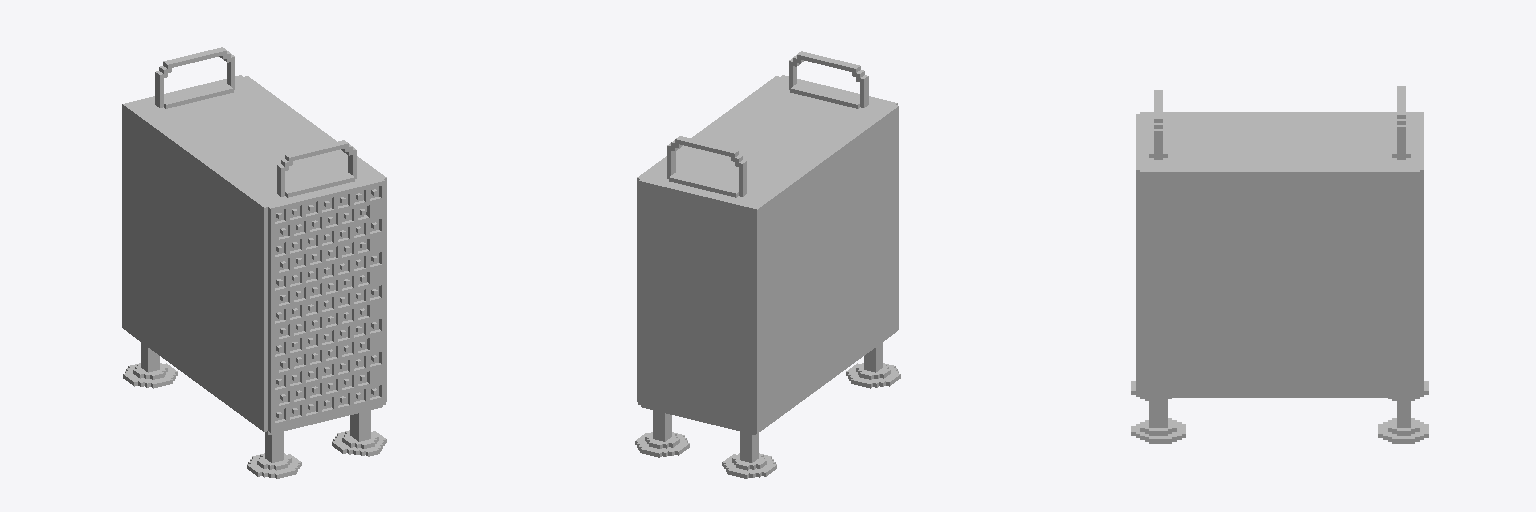
The model's file is Mac Pro.obj.
3 views of the same model, side by side, from view 1: azimuth 30°, elevation 25°; view 2: azimuth 150°, elevation 25°; view 3: azimuth 270°, elevation 25° (orthographic).
Parts seen in each view (by area): view 1: object 1; view 2: object 1; view 3: object 1.
Boxes of the visible parts, box(x1,y1,x2,y2) form: object 1: box(122, 47, 386, 478); object 1: box(635, 51, 900, 478); object 1: box(1131, 86, 1428, 443).
Size of the model in its own units: 3.3 by 7.5 by 6.5.